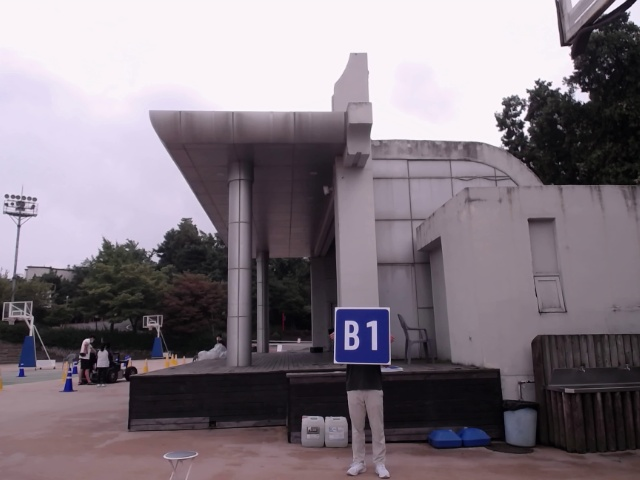delivery_b1: (334, 306, 391, 365)
